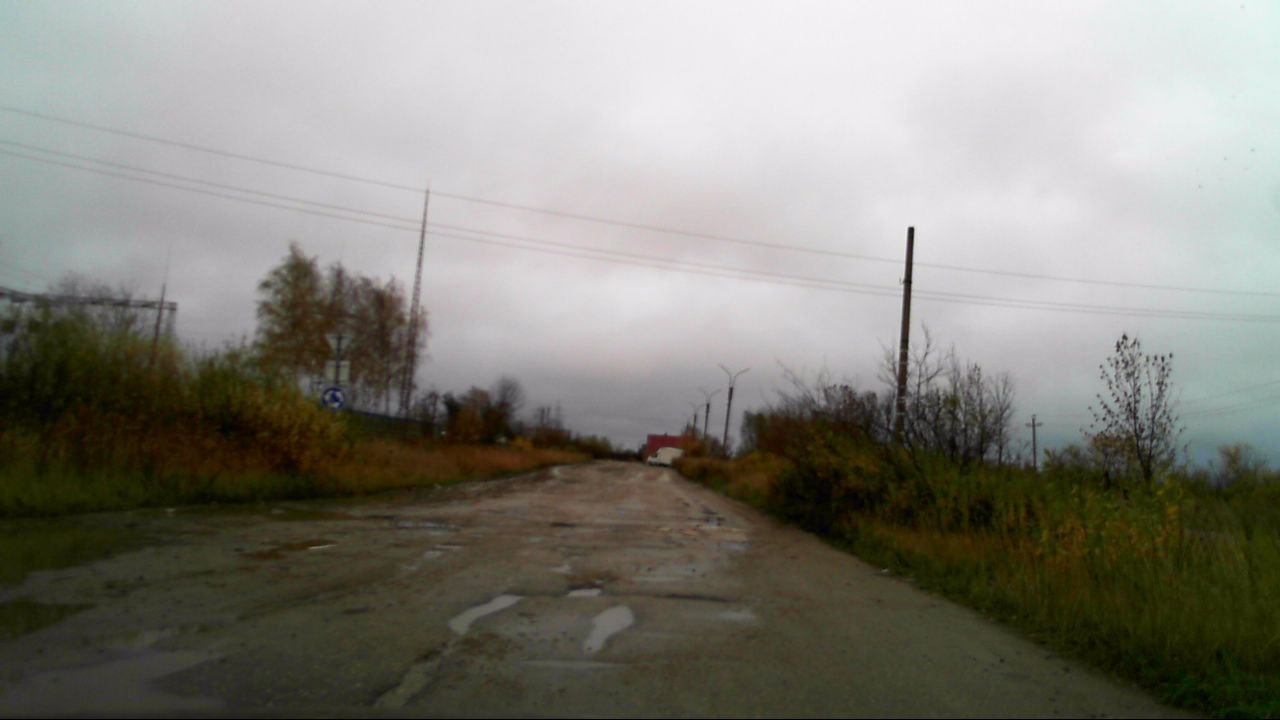Round-About: (320, 384, 348, 413)
